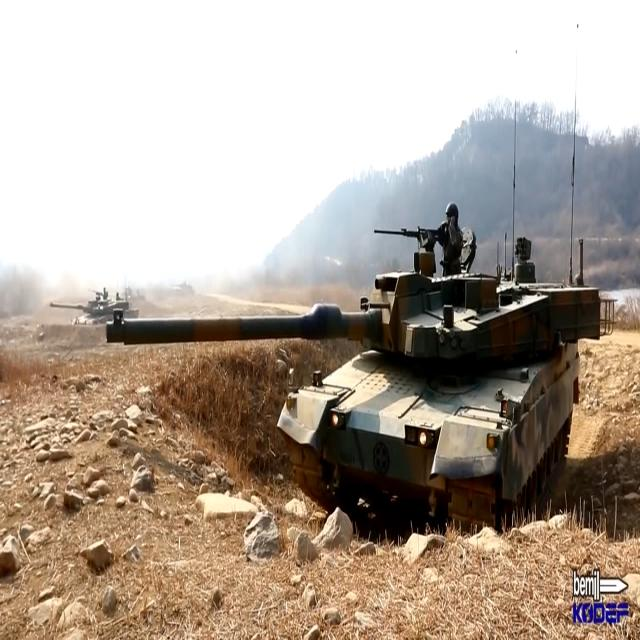korea tank: (105, 204, 617, 534)
